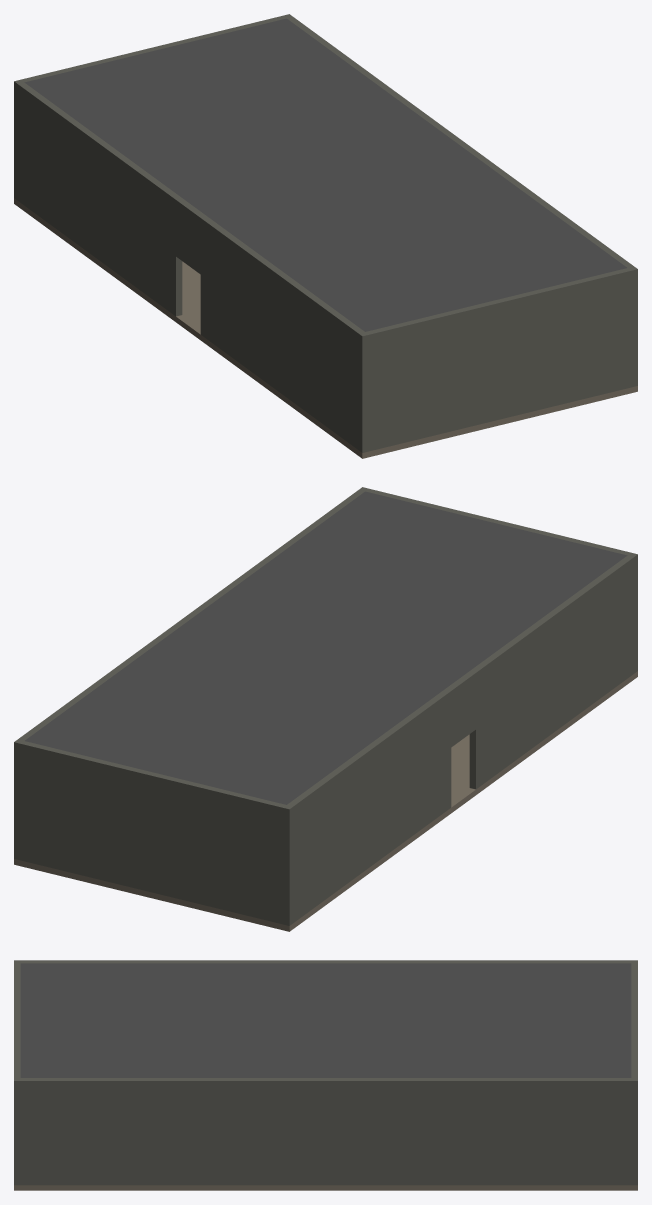
File: L_F01_NorthAmericanForests_FPS.glb
3 renders of one model, top to bottom at view 1: azimuth 30°, elevation 25°; view 2: azimuth 150°, elevation 25°; view 3: azimuth 270°, elevation 25°, orthographic. The views are drawn at different scales.
Parts seen in each view (by area): view 1: ARCH_L_F01_NorthAmericanForests_FPS; view 2: ARCH_L_F01_NorthAmericanForests_FPS; view 3: ARCH_L_F01_NorthAmericanForests_FPS.
Part boxes in pixels (x1,y1,x2,y2): ARCH_L_F01_NorthAmericanForests_FPS: [14, 14, 637, 458]; ARCH_L_F01_NorthAmericanForests_FPS: [14, 487, 637, 931]; ARCH_L_F01_NorthAmericanForests_FPS: [14, 960, 637, 1190].
Bounding box in the file's own units: 16.8 × 7.14 × 36.8.
